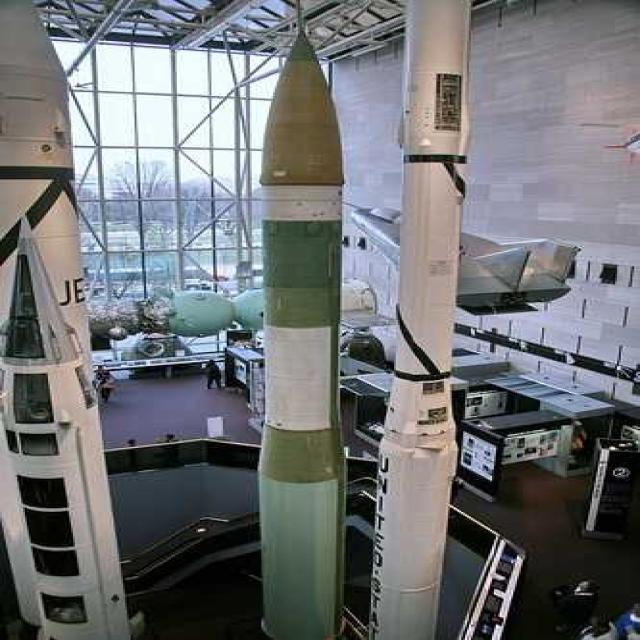missile: (0, 5, 136, 640), (240, 20, 357, 640), (375, 8, 463, 640)
